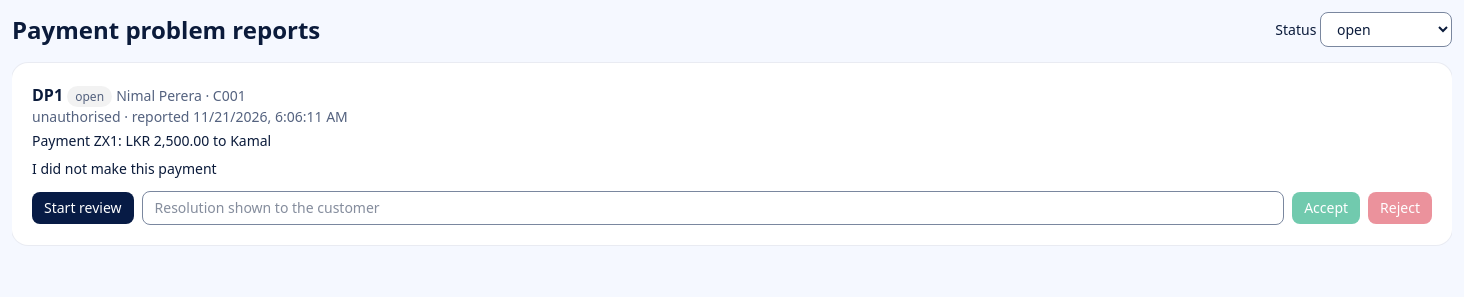
Test: problem reports › shows API refusals instead of failing silently
Expected: the text "I did not make this payment" is shown, [32,159,217,178]
Type "Fine, accepted" into the field named "Resolution for DP1".
click(713, 208); type("Fine, accepted")  # box [142,191,1284,225]
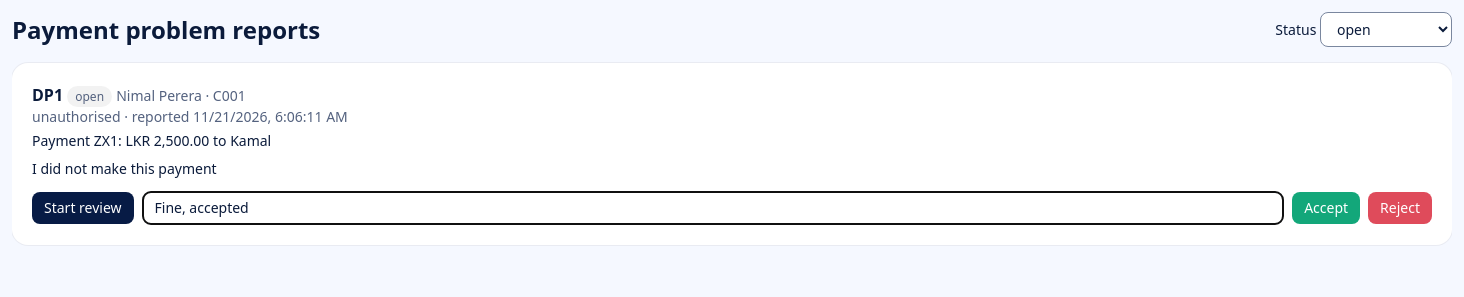
Click the button "Accept".
click(1326, 208)  # box [1292,192,1360,224]
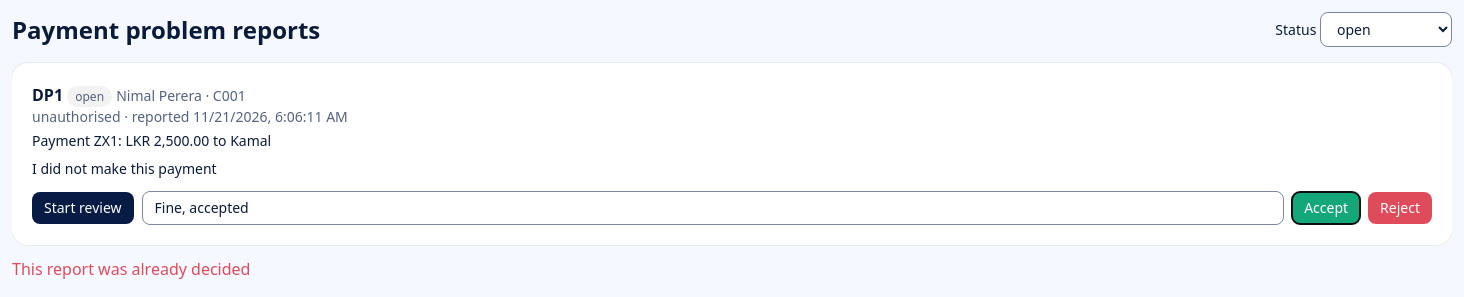
Expected: the message shows "already decided", [12,258,250,280]
